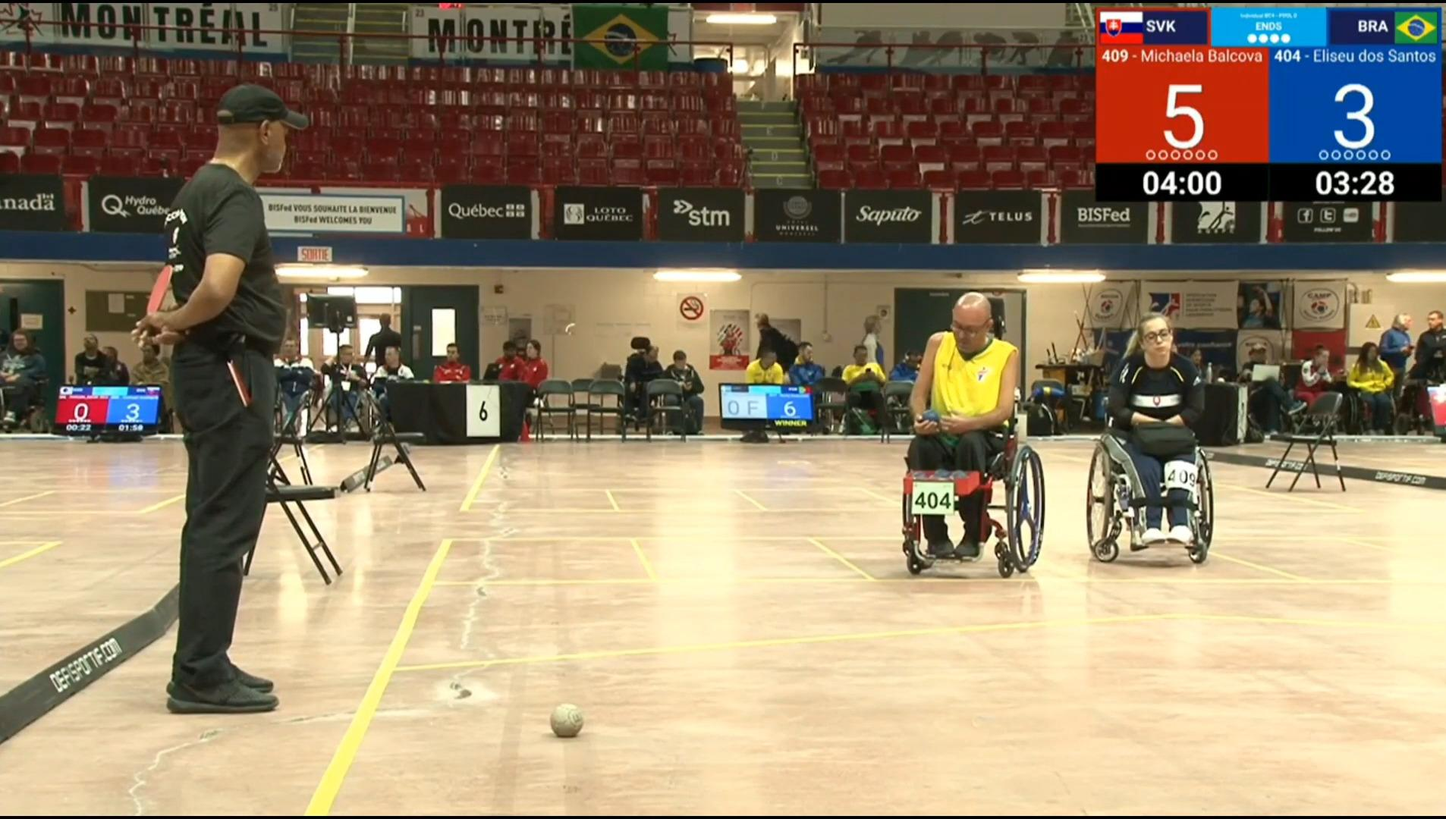white_ball: (549, 703, 583, 737)
